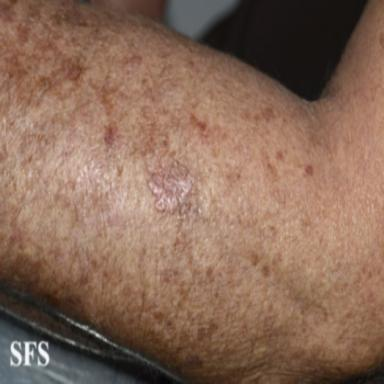Porokeratosis: (148, 161, 194, 213)
